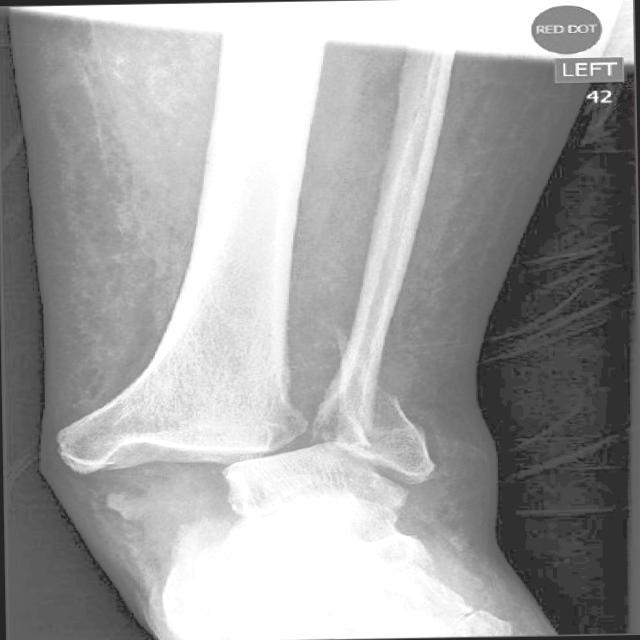Fracture Dislocation: (313, 379, 458, 486)
